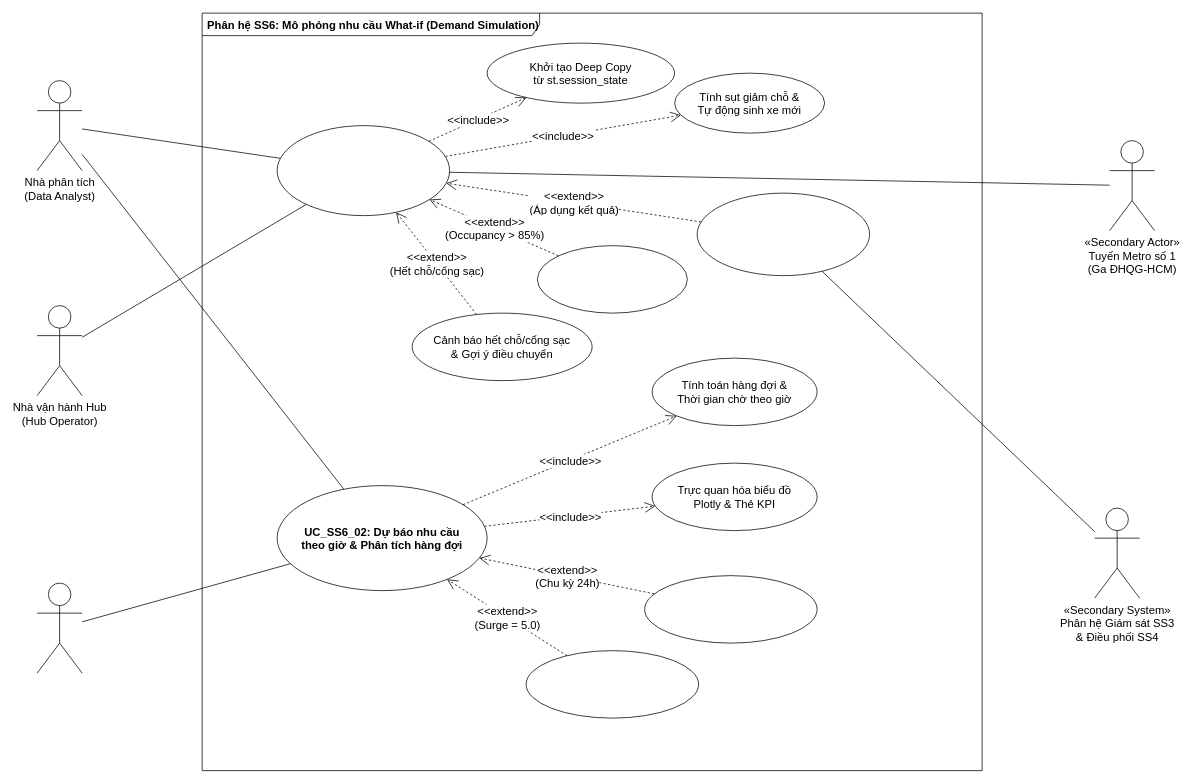
Some shapes in this 1193 by 784 pixel diagram are drawn without their labels. Each missing label, with the box of its shape:
Cảnh báo quá tải (Occupancy > 85%): (537, 245, 687, 313)
Mô phỏng chu kỳ toàn diện 24 giờ: (644, 575, 817, 643)
Mô phỏng sự kiện đặc biệt (Surge = 5.0): (525, 650, 699, 718)
Nhà hoạch định (Strategic Planner): (36, 582, 82, 673)
UC_SS6_01: Mô phỏng tăng đột biến khách Metro: (276, 125, 450, 216)
Áp dụng kết quả mô phỏng vào hệ thống: (696, 192, 870, 276)
